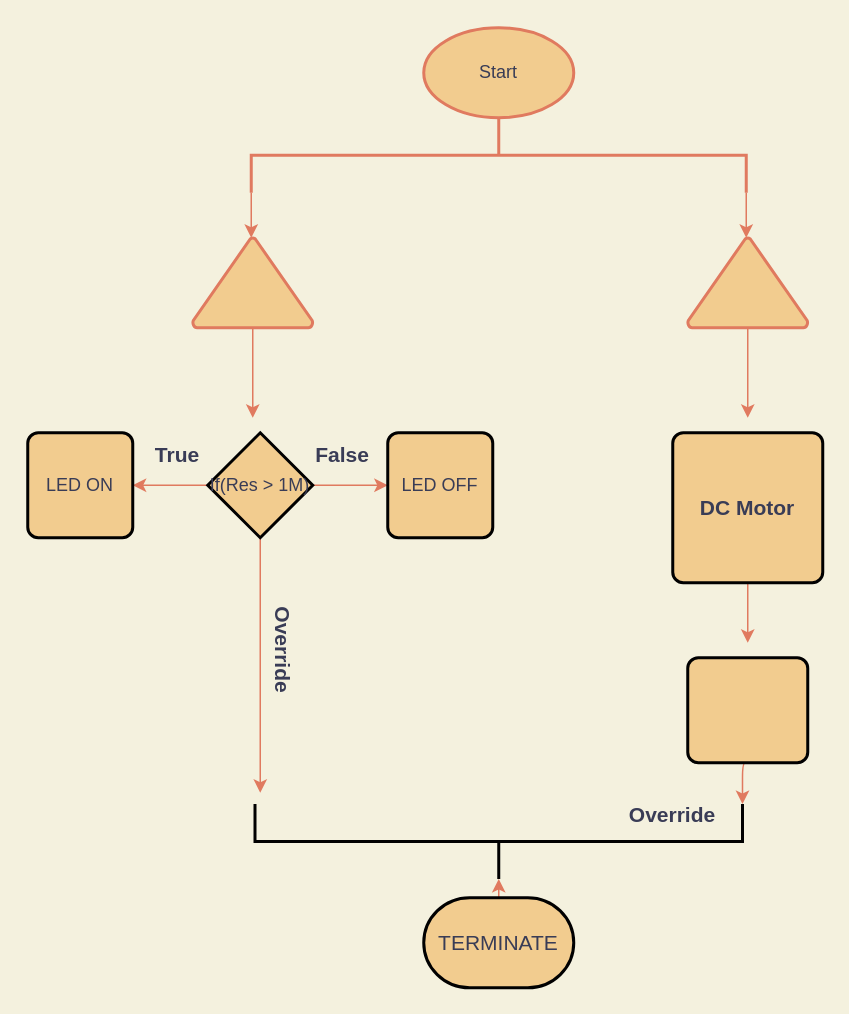
Image size: 849x1014. Some labels were removed from this diagram. The centre of each missing label's shape, as x and y in pixels:
Control Speed of the motor: point 747,710
LDR: point 252,282
Thermistor: point 747,282
